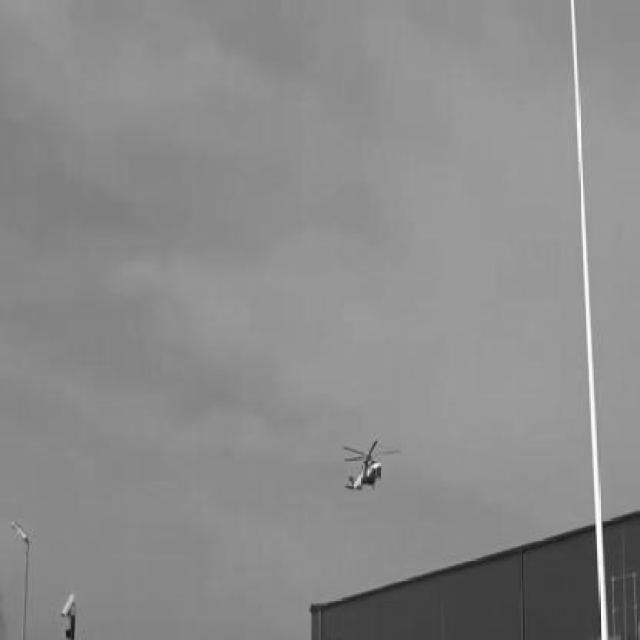helikopter: (343, 442, 385, 489)
